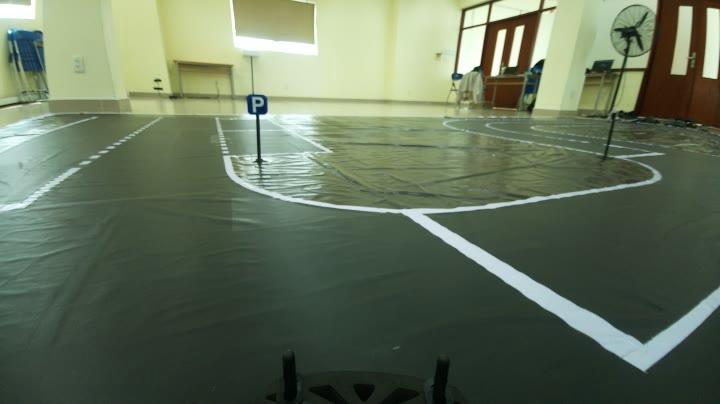parking: (241, 89, 278, 124)
